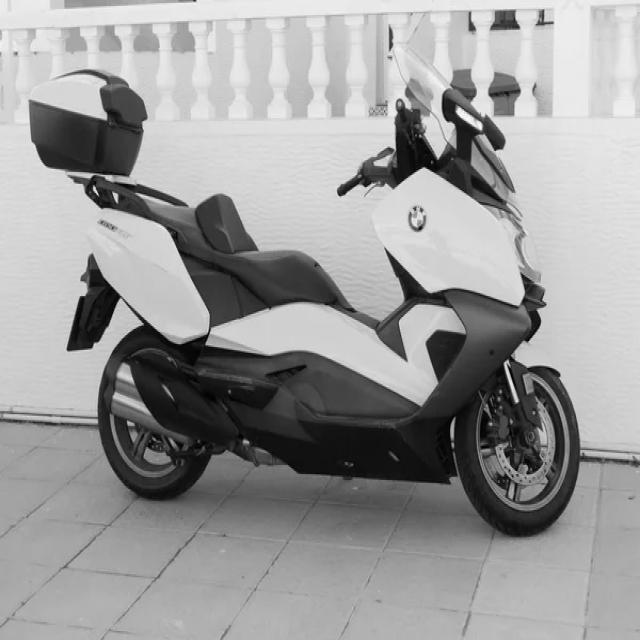Motorcycle: (30, 47, 581, 534)
